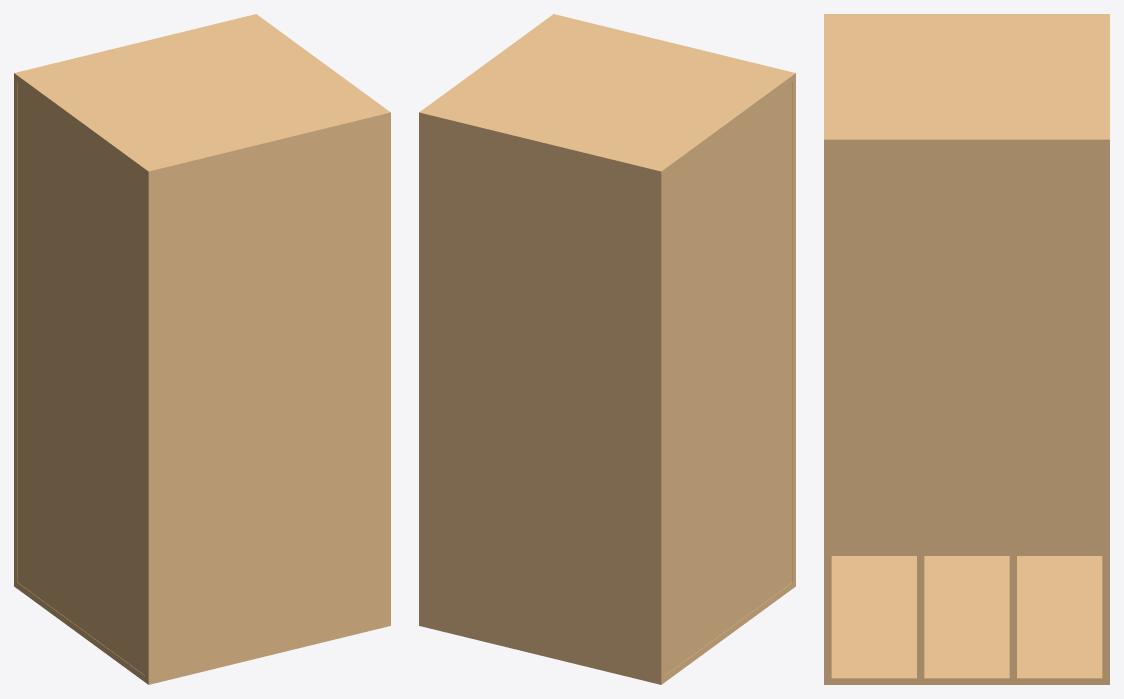
3 views of the same model, side by side, from view 1: azimuth 30°, elevation 25°; view 2: azimuth 150°, elevation 25°; view 3: azimuth 270°, elevation 25° (orthographic). The views are drawn at different scales.
Visible parts, largest first — view 1: ROOT_link (×5); view 2: ROOT_link (×5); view 3: ROOT_link (×7).
Part boxes in pixels (bbox=[...]): ROOT_link (×5): bbox=[14, 14, 390, 684]; ROOT_link (×5): bbox=[419, 14, 795, 684]; ROOT_link (×7): bbox=[824, 14, 1109, 684].
Size of the model in its own units: 0.395 by 0.8 by 0.38.
